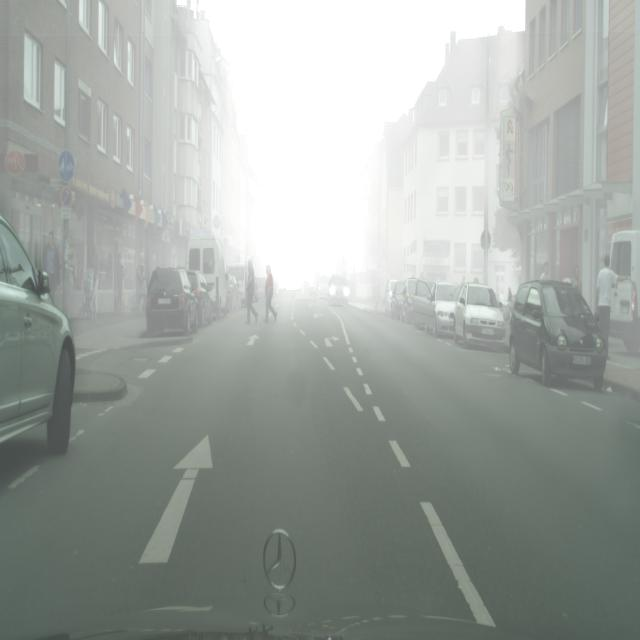bicycle: (608, 229, 640, 353), (186, 233, 227, 319)
bus: (0, 213, 76, 456), (508, 280, 608, 390), (145, 268, 198, 336), (454, 281, 506, 349), (412, 279, 460, 337), (187, 269, 213, 328), (400, 278, 417, 324), (386, 279, 405, 319), (328, 272, 349, 307), (226, 269, 242, 312), (317, 276, 330, 299)
person: (595, 254, 618, 356), (43, 231, 58, 304), (244, 259, 258, 323), (136, 250, 148, 317), (90, 242, 100, 319), (263, 265, 276, 322), (115, 252, 124, 313), (539, 262, 551, 282)
